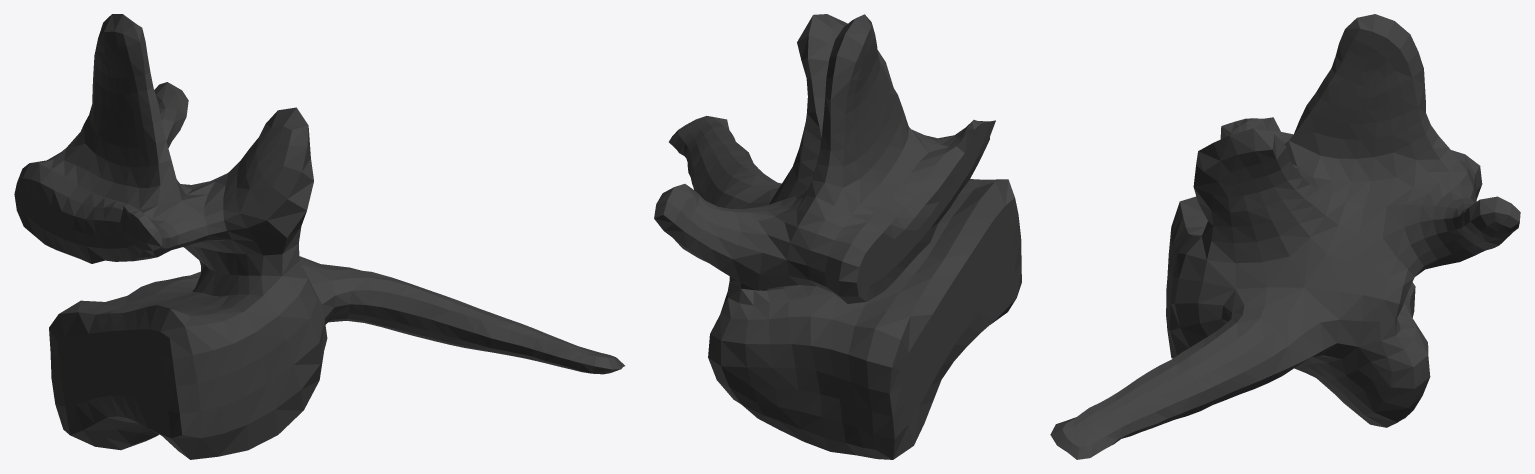
3 views of the same model, side by side, from view 1: azimuth 30°, elevation 25°; view 2: azimuth 150°, elevation 25°; view 3: azimuth 270°, elevation 25° (orthographic). The views are drawn at different scales.
Parts seen in each view (by area): view 1: L6; view 2: L6; view 3: L6.
Part boxes in pixels (x1=…): L6: x1=14, y1=14, x2=624, y2=459; L6: x1=654, y1=14, x2=1021, y2=459; L6: x1=1050, y1=14, x2=1520, y2=459.
Bounding box in the file's own units: 0.0129 × 0.0134 × 0.0144.
Materials: 1 (1 with a texture image).
